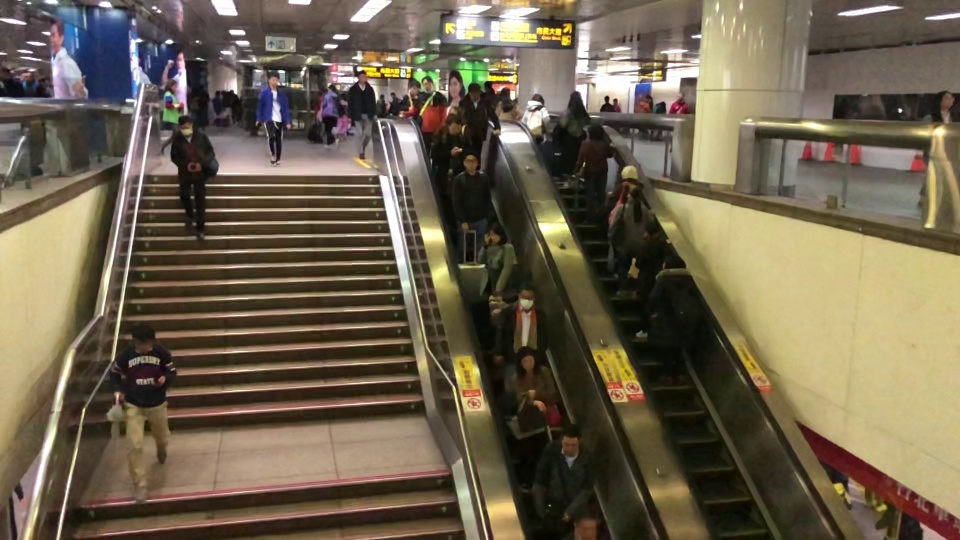person_head: (572, 501, 602, 540), (559, 423, 583, 456), (130, 324, 156, 354), (514, 345, 538, 373), (516, 282, 537, 311), (932, 89, 955, 111), (488, 222, 508, 245), (662, 253, 686, 272), (444, 115, 464, 137), (619, 164, 639, 183), (448, 105, 466, 126), (177, 115, 194, 137), (462, 152, 479, 174), (642, 221, 659, 239), (567, 90, 583, 109), (586, 124, 604, 140), (467, 83, 481, 101), (627, 186, 641, 203), (406, 80, 421, 95), (267, 71, 280, 87), (420, 75, 433, 91), (530, 93, 545, 106), (165, 78, 177, 94), (21, 70, 35, 83), (827, 469, 840, 483), (356, 69, 367, 83), (0, 66, 10, 81), (500, 87, 510, 100), (675, 90, 685, 102), (12, 73, 23, 82), (327, 84, 336, 94), (484, 80, 493, 90), (43, 77, 51, 86), (189, 87, 197, 96), (340, 92, 348, 101), (644, 94, 652, 103), (658, 100, 666, 109), (320, 87, 327, 96), (603, 95, 610, 103), (378, 94, 385, 101), (390, 91, 396, 99), (198, 83, 204, 90), (214, 90, 221, 96), (612, 98, 618, 105), (228, 89, 234, 95)
person_vbox: (107, 324, 177, 506), (530, 422, 595, 539), (493, 282, 550, 413), (508, 345, 557, 494), (641, 252, 695, 386), (169, 115, 215, 242), (609, 186, 655, 297), (428, 115, 477, 217), (915, 89, 955, 210), (450, 152, 492, 262), (572, 124, 617, 226), (633, 220, 669, 338), (398, 75, 448, 159), (253, 70, 292, 167), (458, 83, 501, 170), (557, 90, 592, 187), (477, 222, 520, 295), (347, 69, 376, 160), (606, 164, 646, 213), (160, 77, 184, 156), (873, 503, 924, 540), (520, 93, 550, 146), (667, 90, 692, 153), (320, 84, 339, 148), (434, 105, 472, 137), (827, 469, 853, 510), (494, 87, 524, 121), (8, 480, 24, 540), (396, 80, 421, 117), (633, 94, 652, 139), (312, 87, 327, 143), (0, 66, 23, 96), (649, 101, 666, 138), (197, 83, 210, 130), (21, 69, 40, 98), (599, 95, 615, 128), (225, 89, 239, 125), (188, 87, 199, 128), (483, 80, 498, 106), (376, 94, 389, 119), (612, 98, 621, 134), (388, 91, 401, 115), (338, 92, 348, 117), (43, 77, 54, 99), (212, 90, 221, 115)
